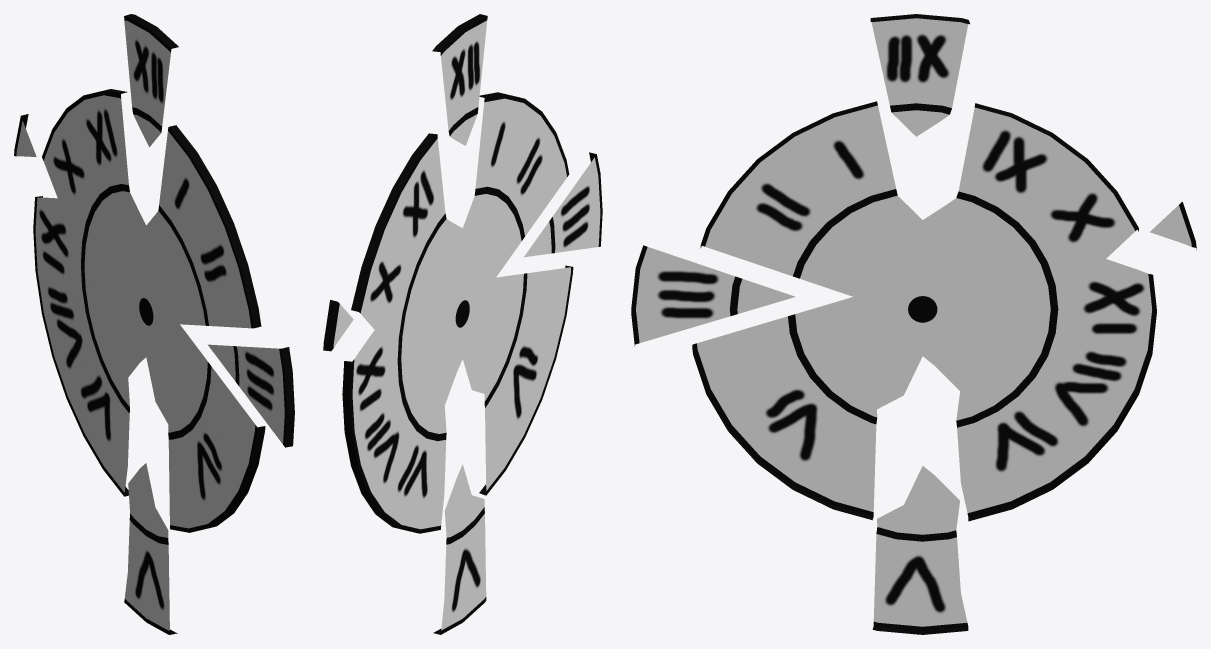
File: Срш.fbx
3 views of the same model, side by side, from view 1: azimuth 30°, elevation 25°; view 2: azimuth 150°, elevation 25°; view 3: azimuth 270°, elevation 25° (orthographic). The views are drawn at different scales.
Parts seen in each view (by area): view 1: Circle, Circle.004, Circle.002, Circle.001, Circle.003; view 2: Circle, Circle.004, Circle.001, Circle.002, Circle.003; view 3: Circle, Circle.004, Circle.001, Circle.002, Circle.003.
Boxes of the visible parts, x1,y1,x2,y2 form: Circle: (33,89,265,532); Circle.004: (124,463,177,634); Circle.002: (208,344,294,447); Circle.001: (124,14,178,147); Circle.003: (14,114,36,156); Circle: (342,92,573,533); Circle.004: (433,464,486,634); Circle.001: (432,14,487,145); Circle.002: (524,152,602,257); Circle.003: (323,300,353,351); Circle: (692,101,1156,521); Circle.004: (872,466,968,634); Circle.001: (870,14,969,136); Circle.002: (631,245,795,346); Circle.003: (1150,202,1196,249).
Size of the model in its own units: 4.02 by 291 by 242.
